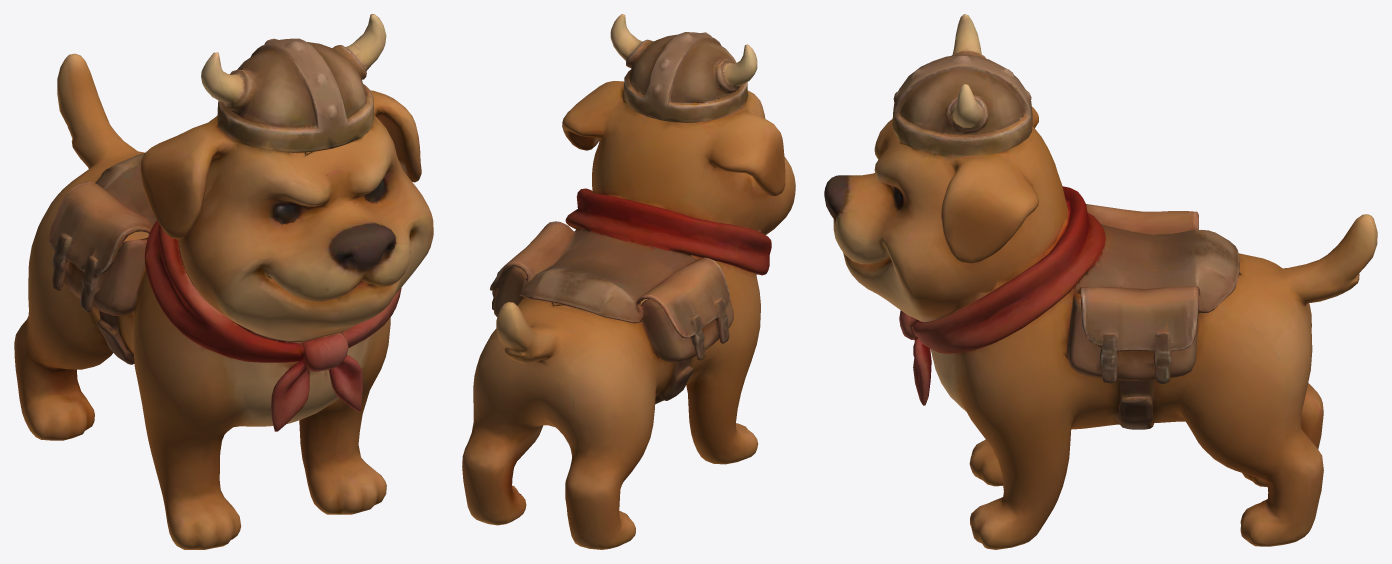
File: model-dog.glb
3 views of the same model, side by side, from view 1: azimuth 30°, elevation 25°; view 2: azimuth 150°, elevation 25°; view 3: azimuth 270°, elevation 25° (orthographic). The views are drawn at different scales.
Visible parts, largest first — view 1: geometry_0; view 2: geometry_0; view 3: geometry_0.
Part boxes in pixels (bbox=[...]): geometry_0: bbox=[14, 14, 433, 549]; geometry_0: bbox=[462, 14, 795, 549]; geometry_0: bbox=[824, 14, 1377, 549].
Size of the model in its own units: 0.5029 by 0.9163 by 1.
Materials: 1 (1 with a texture image).
